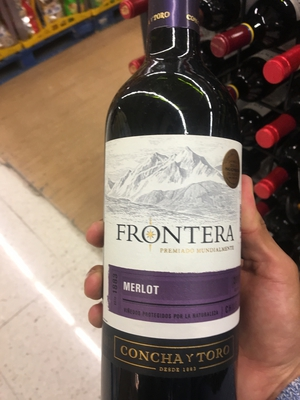frontera merlot: (91, 11, 262, 395)
